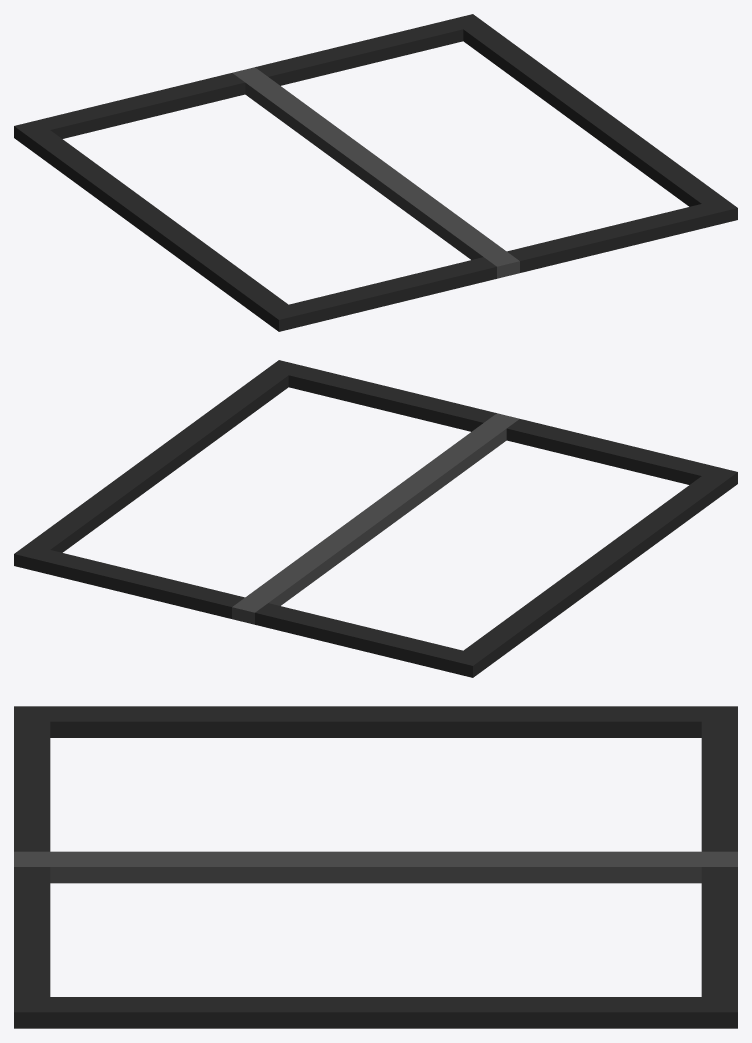
File: movable_wire.obj
3 renders of one model, top to bottom at view 1: azimuth 30°, elevation 25°; view 2: azimuth 150°, elevation 25°; view 3: azimuth 270°, elevation 25°, orthographic. The views are drawn at different scales.
Size of the model in its own units: 4 by 0.1 by 4.
1 material, 1 textured.
